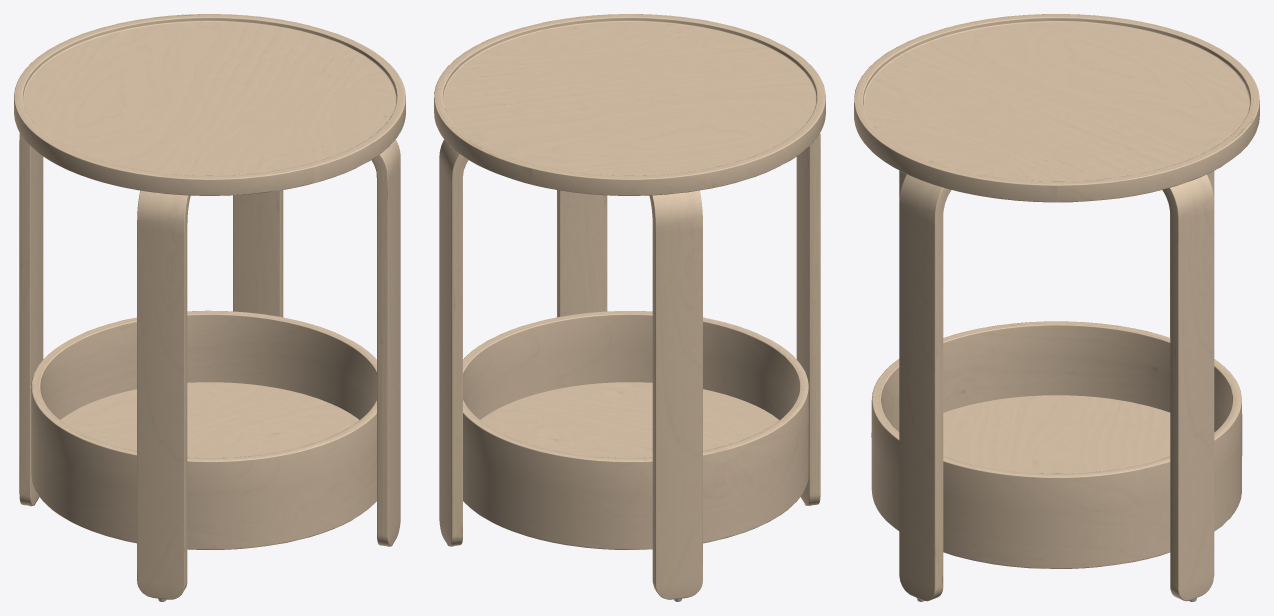
Rendered from borgeby_stolik_80619880.glb.
3 renders of one model, left to right at view 1: azimuth 30°, elevation 25°; view 2: azimuth 150°, elevation 25°; view 3: azimuth 270°, elevation 25°, orthographic. The views are drawn at different scales.
Visible parts, largest first — view 1: borgeby_stolik_80619880; view 2: borgeby_stolik_80619880; view 3: borgeby_stolik_80619880.
Boxes of the visible parts, x1,y1,x2,y2 form: borgeby_stolik_80619880: [14, 14, 405, 601]; borgeby_stolik_80619880: [434, 14, 825, 601]; borgeby_stolik_80619880: [854, 14, 1259, 601].
Bounding box in the file's own units: 0.4601 × 0.555 × 0.4599.
1 material, 1 textured.
